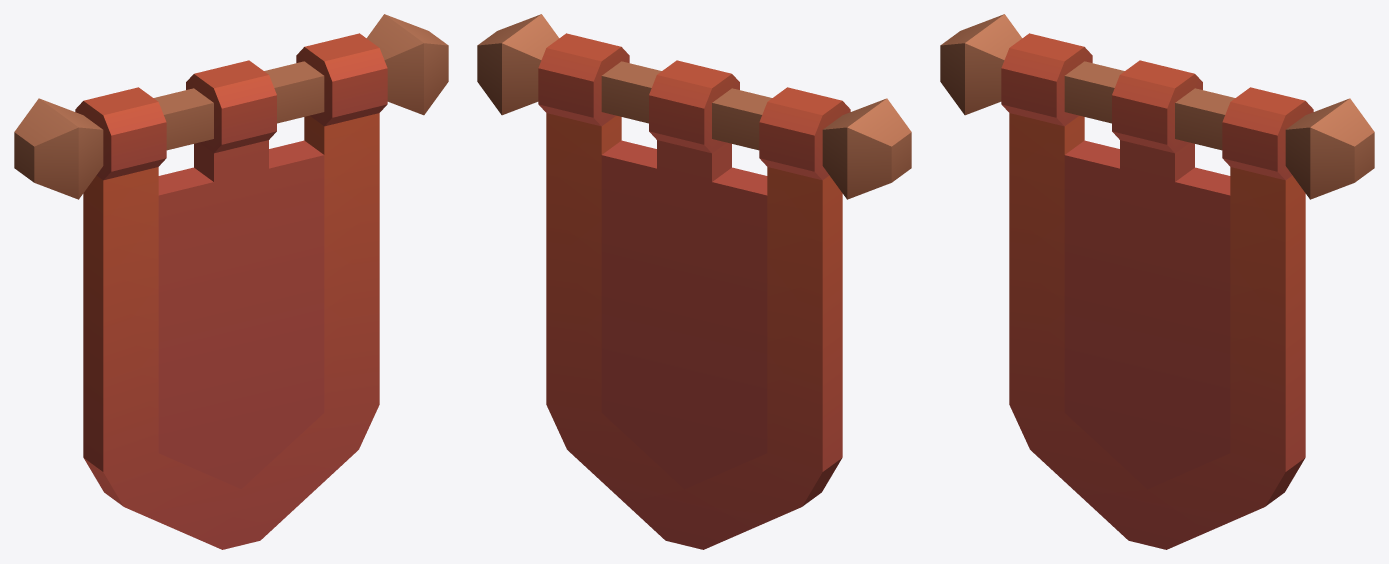
Rendered from banner.glb.
3 renders of one model, left to right at view 1: azimuth 30°, elevation 25°; view 2: azimuth 150°, elevation 25°; view 3: azimuth 330°, elevation 25°, orthographic.
Visible parts, largest first — view 1: geometry_0; view 2: geometry_0; view 3: geometry_0.
Part boxes in pixels (x1,y1,x2,y2): geometry_0: [14, 14, 448, 549]; geometry_0: [477, 14, 911, 549]; geometry_0: [940, 14, 1374, 549].
Bounding box in the file's own units: 1 × 1.08 × 0.1671.
